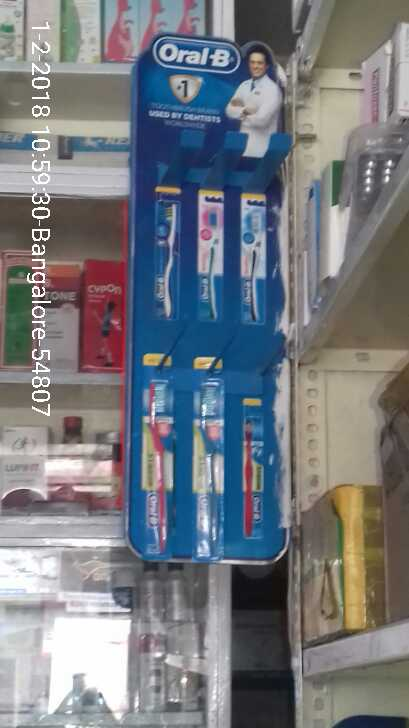oralb: (143, 353, 177, 562), (194, 378, 226, 561)
